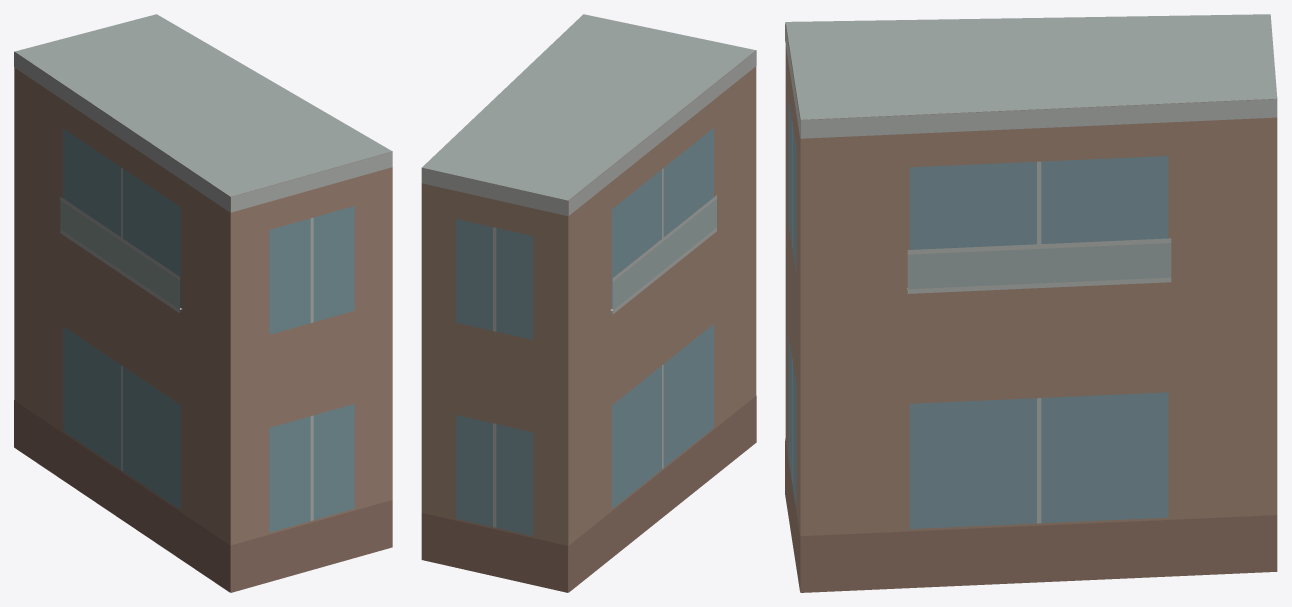
The model's file is survey-upis-32545264.glb.
The picture shows the model from 3 angles, left to right: view 1: azimuth 30°, elevation 25°; view 2: azimuth 150°, elevation 25°; view 3: azimuth 270°, elevation 25°; orthographic projection. The views are drawn at different scales.
Parts seen in each view (by area): view 1: survey-upis-32545264.tmp; view 2: survey-upis-32545264.tmp; view 3: survey-upis-32545264.tmp.
Part boxes in pixels (x1,y1,x2,y2): survey-upis-32545264.tmp: (14, 14, 392, 592); survey-upis-32545264.tmp: (421, 14, 756, 592); survey-upis-32545264.tmp: (785, 14, 1277, 592).
Bounding box in the file's own units: 2.94 × 6.1 × 5.76.
